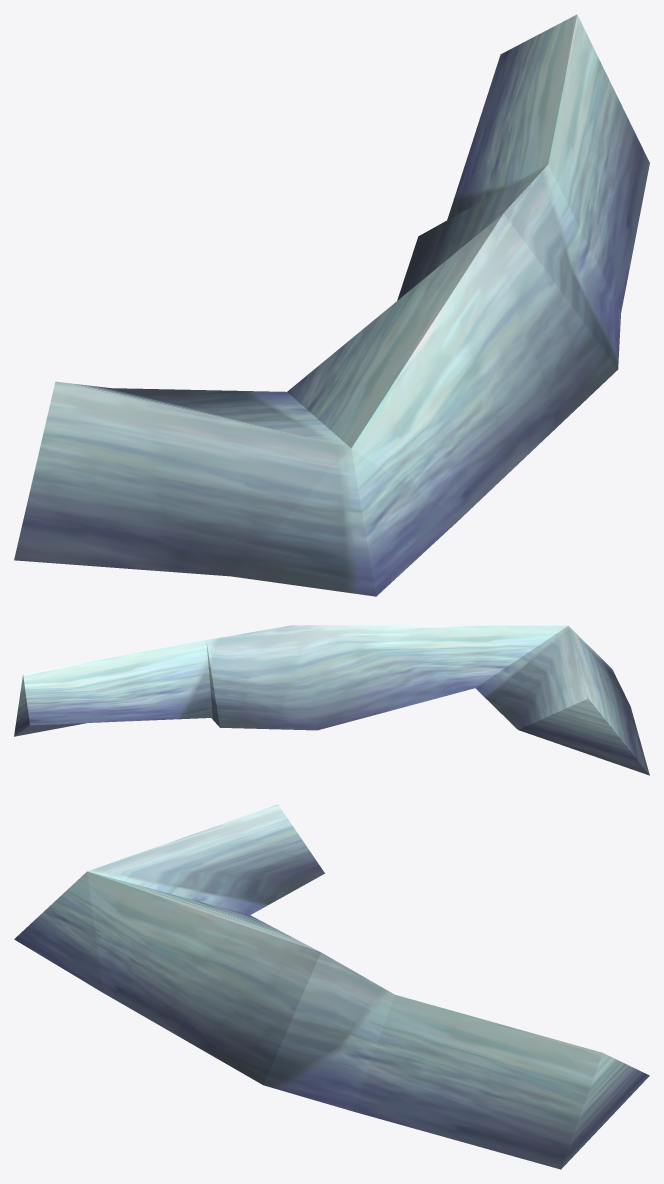
File: CZSnowB_1.gltf
The picture shows the model from 3 angles, top to bottom: view 1: azimuth 30°, elevation 25°; view 2: azimuth 150°, elevation 25°; view 3: azimuth 270°, elevation 25°; orthographic projection. The views are drawn at different scales.
Parts seen in each view (by area): view 1: CZSnowB_1; view 2: CZSnowB_1; view 3: CZSnowB_1.
Part boxes in pixels (<box>): CZSnowB_1: <box>14,14,649,596</box>; CZSnowB_1: <box>14,625,649,775</box>; CZSnowB_1: <box>14,804,649,1169</box>.
Bounding box in the file's own units: 34.71 × 6.46 × 30.41.
1 material, 1 textured.
